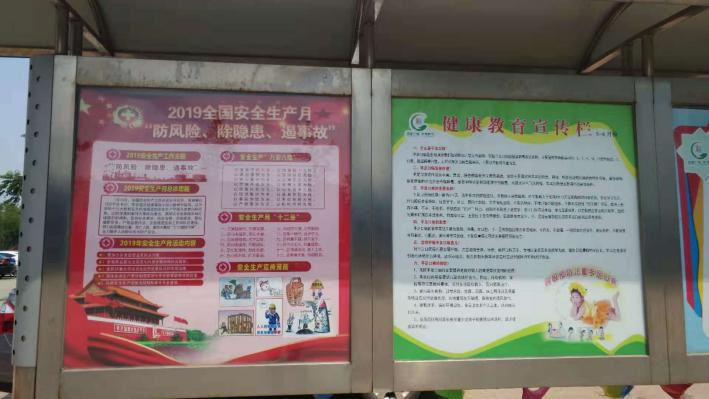bill: (62, 85, 352, 370), (392, 95, 650, 363)
